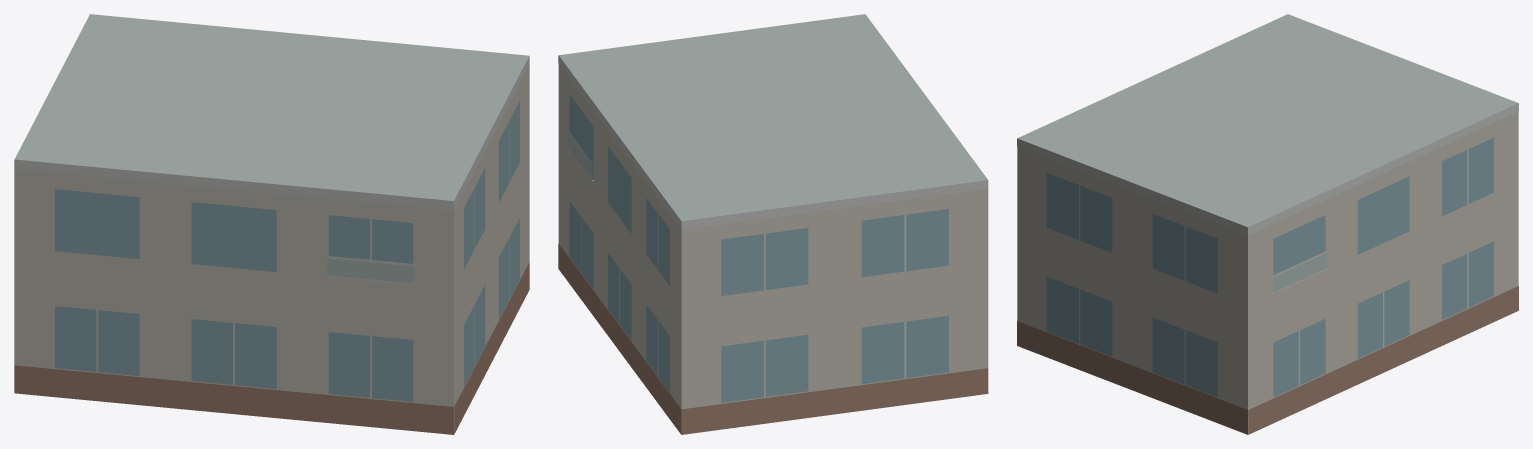
Rendered from survey-upis-32712527.glb.
The picture shows the model from 3 angles, left to right: view 1: azimuth 30°, elevation 25°; view 2: azimuth 150°, elevation 25°; view 3: azimuth 270°, elevation 25°; orthographic projection. The views are drawn at different scales.
Parts seen in each view (by area): view 1: survey-upis-32712527.tmp; view 2: survey-upis-32712527.tmp; view 3: survey-upis-32712527.tmp.
Boxes of the visible parts, <box> form: survey-upis-32712527.tmp: <box>14,14,529,434</box>; survey-upis-32712527.tmp: <box>558,14,988,434</box>; survey-upis-32712527.tmp: <box>1017,14,1518,434</box>.
Size of the model in its own units: 13.46 by 6.1 by 13.37.
